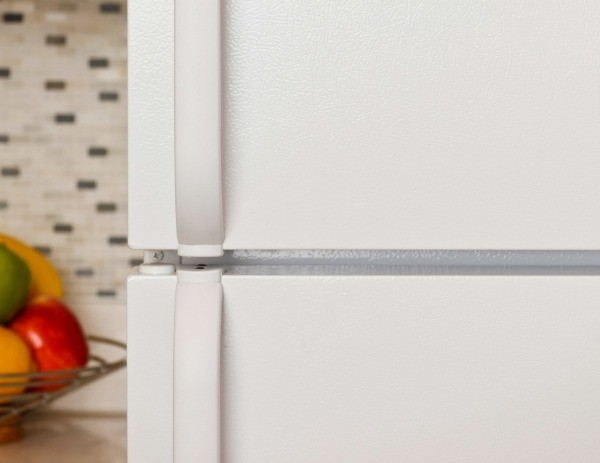handle: (158, 10, 233, 252), (168, 275, 229, 463)
refrigerator door: (137, 21, 600, 253), (134, 275, 600, 463)
